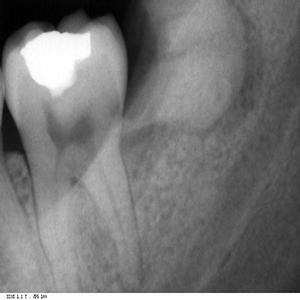tooth: (6, 20, 128, 260)
